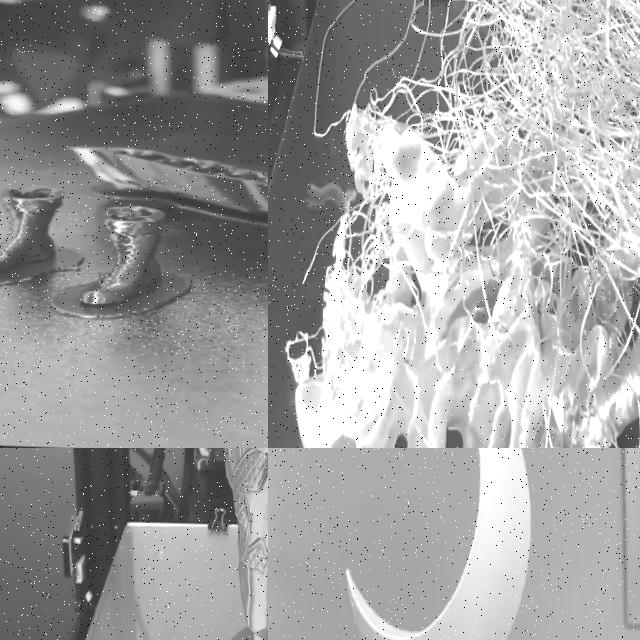spaghetti: (273, 0, 640, 448)
